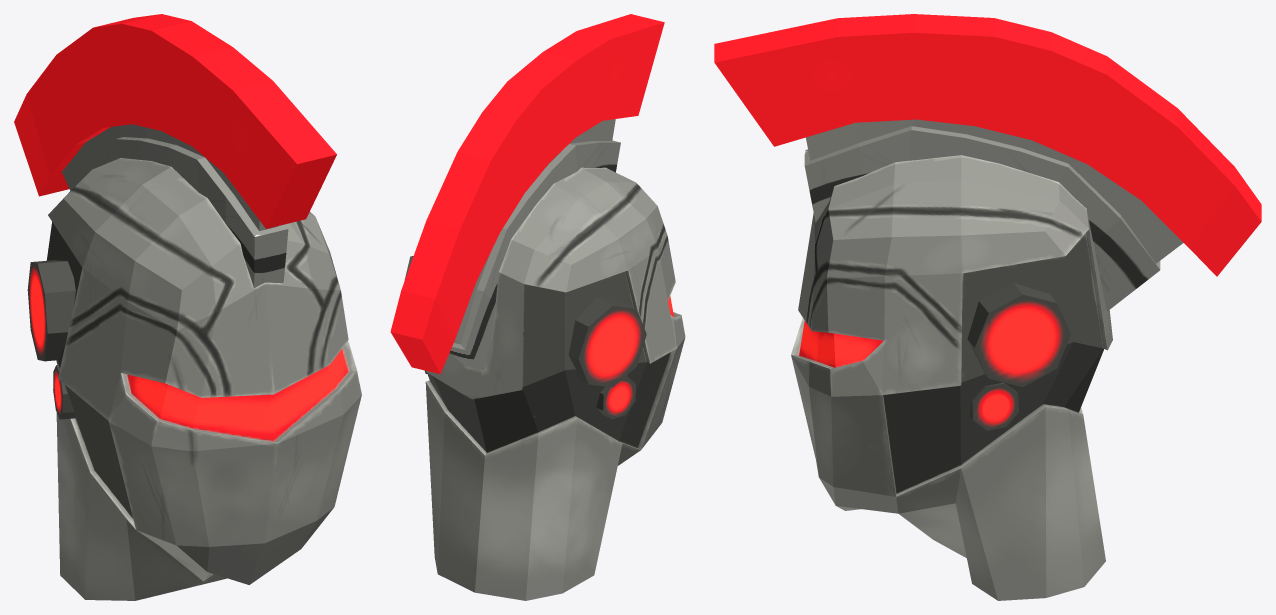
Rendered from cabeçaTec03.glb.
The picture shows the model from 3 angles, left to right: view 1: azimuth 30°, elevation 25°; view 2: azimuth 150°, elevation 25°; view 3: azimuth 270°, elevation 25°; orthographic projection. The views are drawn at different scales.
Visible parts, largest first — view 1: Cube, Plane; view 2: Cube, Plane; view 3: Cube, Plane.
Boxes of the visible parts, x1,y1,x2,y2 form: Cube: (27, 158, 361, 600); Plane: (14, 14, 336, 287); Cube: (404, 167, 685, 600); Plane: (390, 14, 664, 374); Cube: (791, 155, 1112, 600); Plane: (714, 14, 1261, 311).
Bounding box in the file's own units: 1.37 × 2.71 × 2.5.
1 material, 1 textured.
